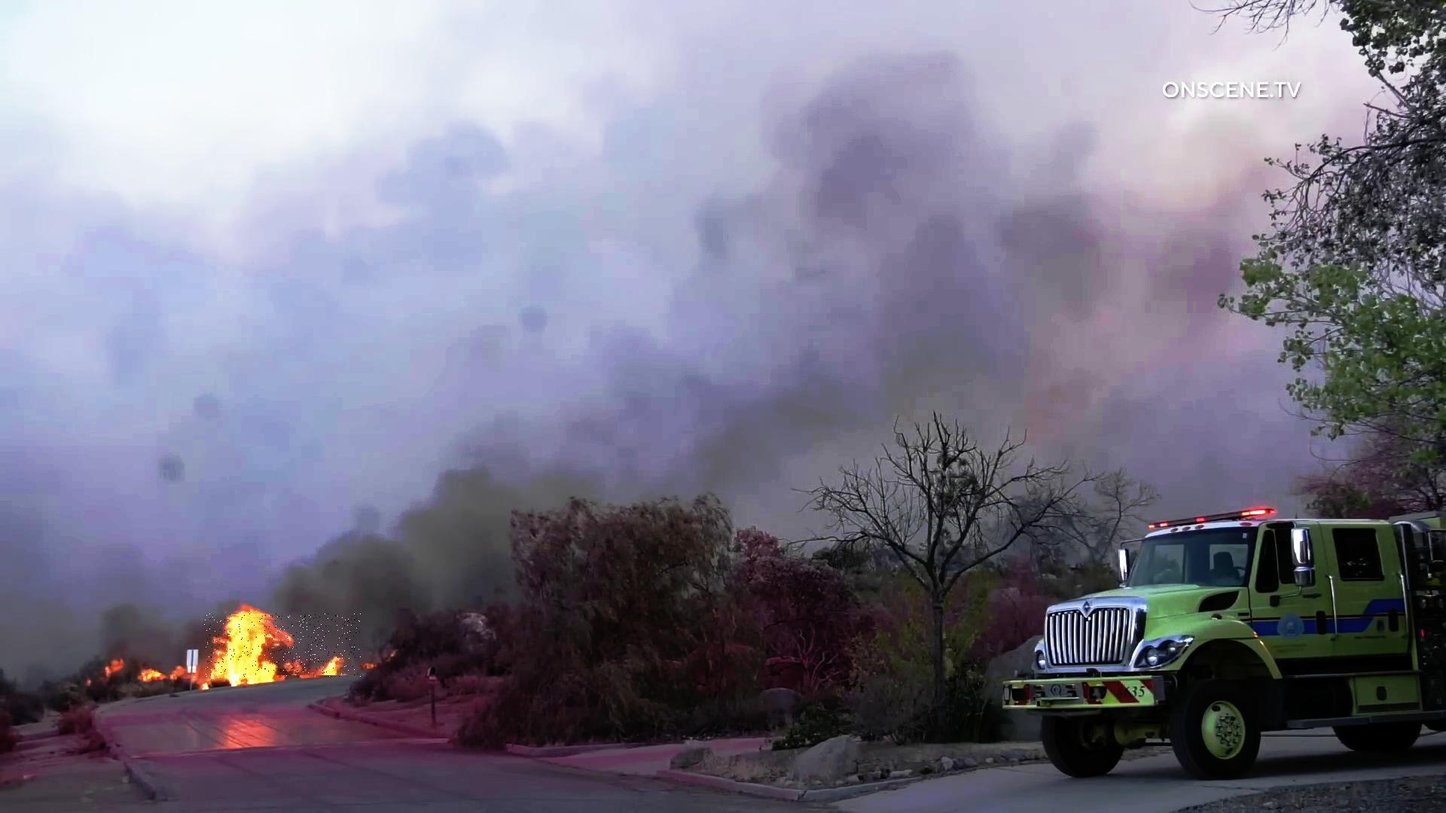fire: (204, 614, 361, 677)
